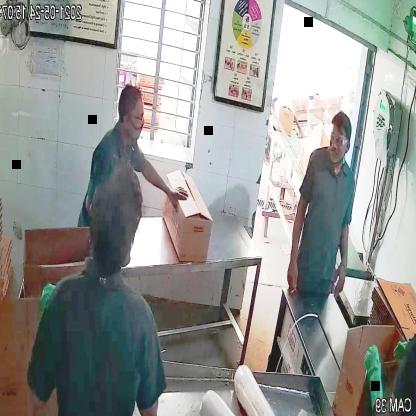goggles: (330, 131, 352, 149)
